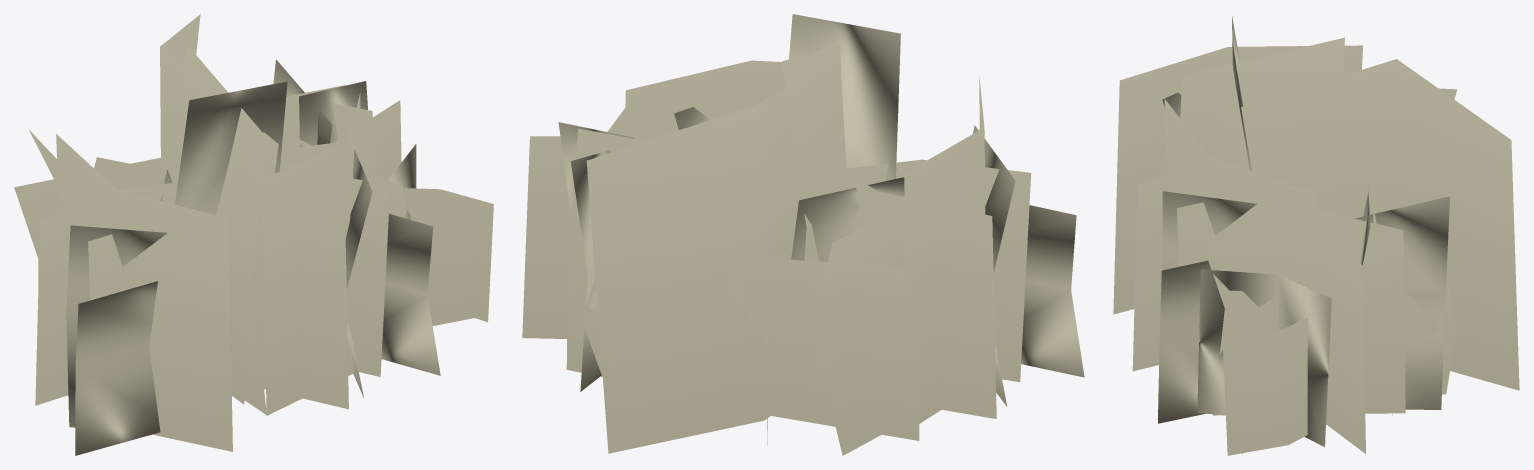
Rendered from beach_grass_0.glb.
3 views of the same model, side by side, from view 1: azimuth 30°, elevation 25°; view 2: azimuth 150°, elevation 25°; view 3: azimuth 270°, elevation 25° (orthographic). The views are drawn at different scales.
Parts seen in each view (by area): view 1: beach_grass_0; view 2: beach_grass_0; view 3: beach_grass_0.
Boxes of the visible parts, left/top/right/bottom form: beach_grass_0: left=14, top=14, right=493, bottom=455; beach_grass_0: left=522, top=14, right=1084, bottom=455; beach_grass_0: left=1113, top=16, right=1519, bottom=455.
Size of the model in its own units: 0.5778 by 0.4 by 0.4565.
Materials: 1 (1 with a texture image).
